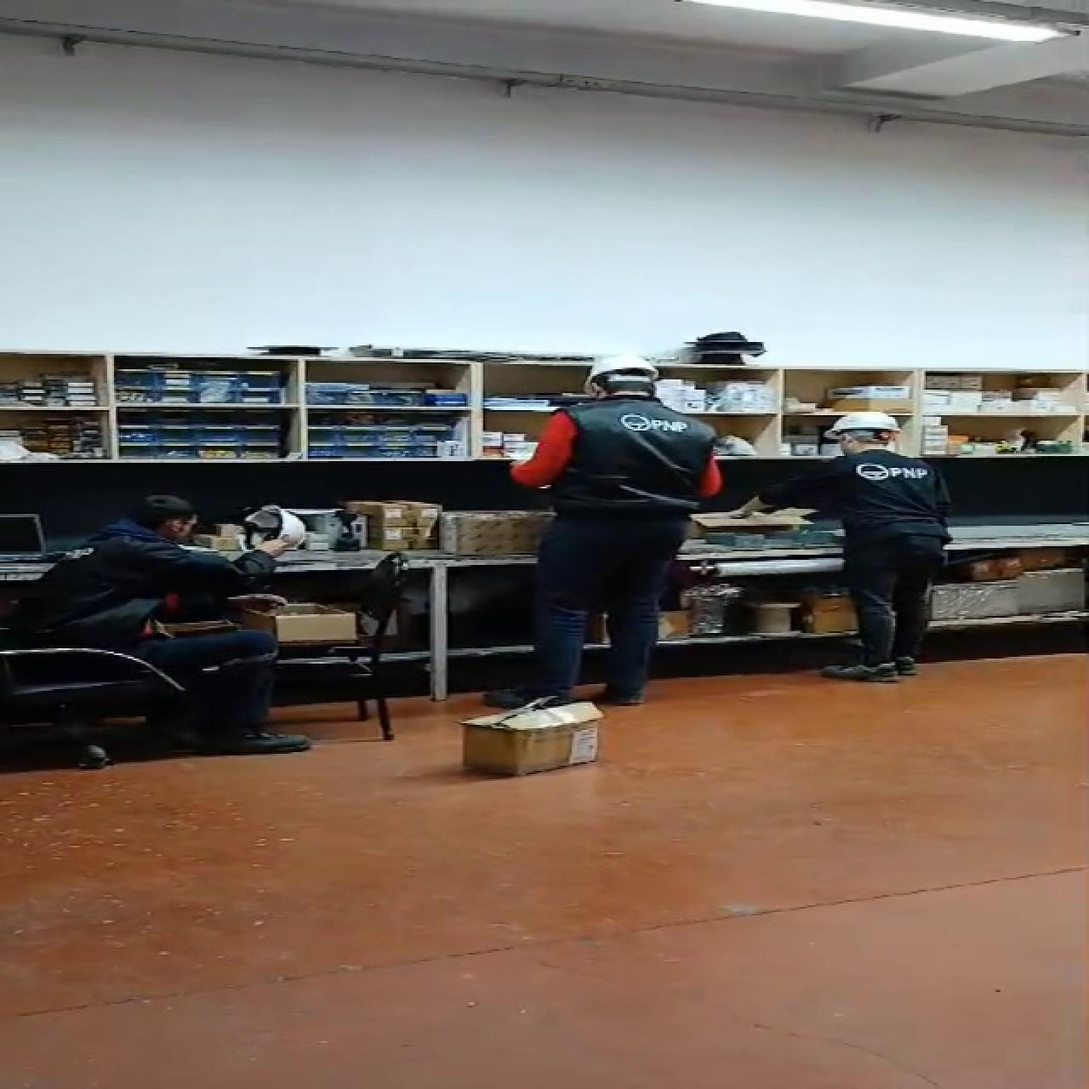NO_Safety_Vest: (565, 395, 703, 526), (27, 527, 157, 632), (832, 453, 948, 543)
Person: (13, 479, 321, 757), (496, 341, 721, 716), (804, 407, 948, 685)
